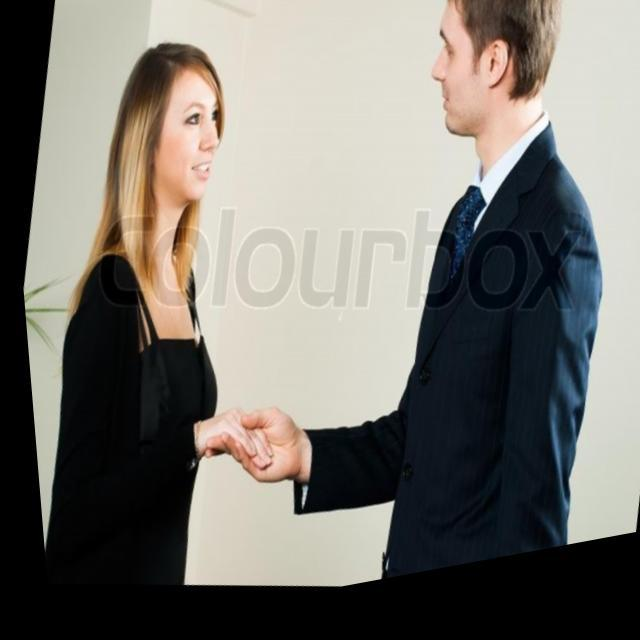Nonhelmet: (65, 39, 227, 339), (428, 0, 565, 140), (152, 70, 224, 205)
